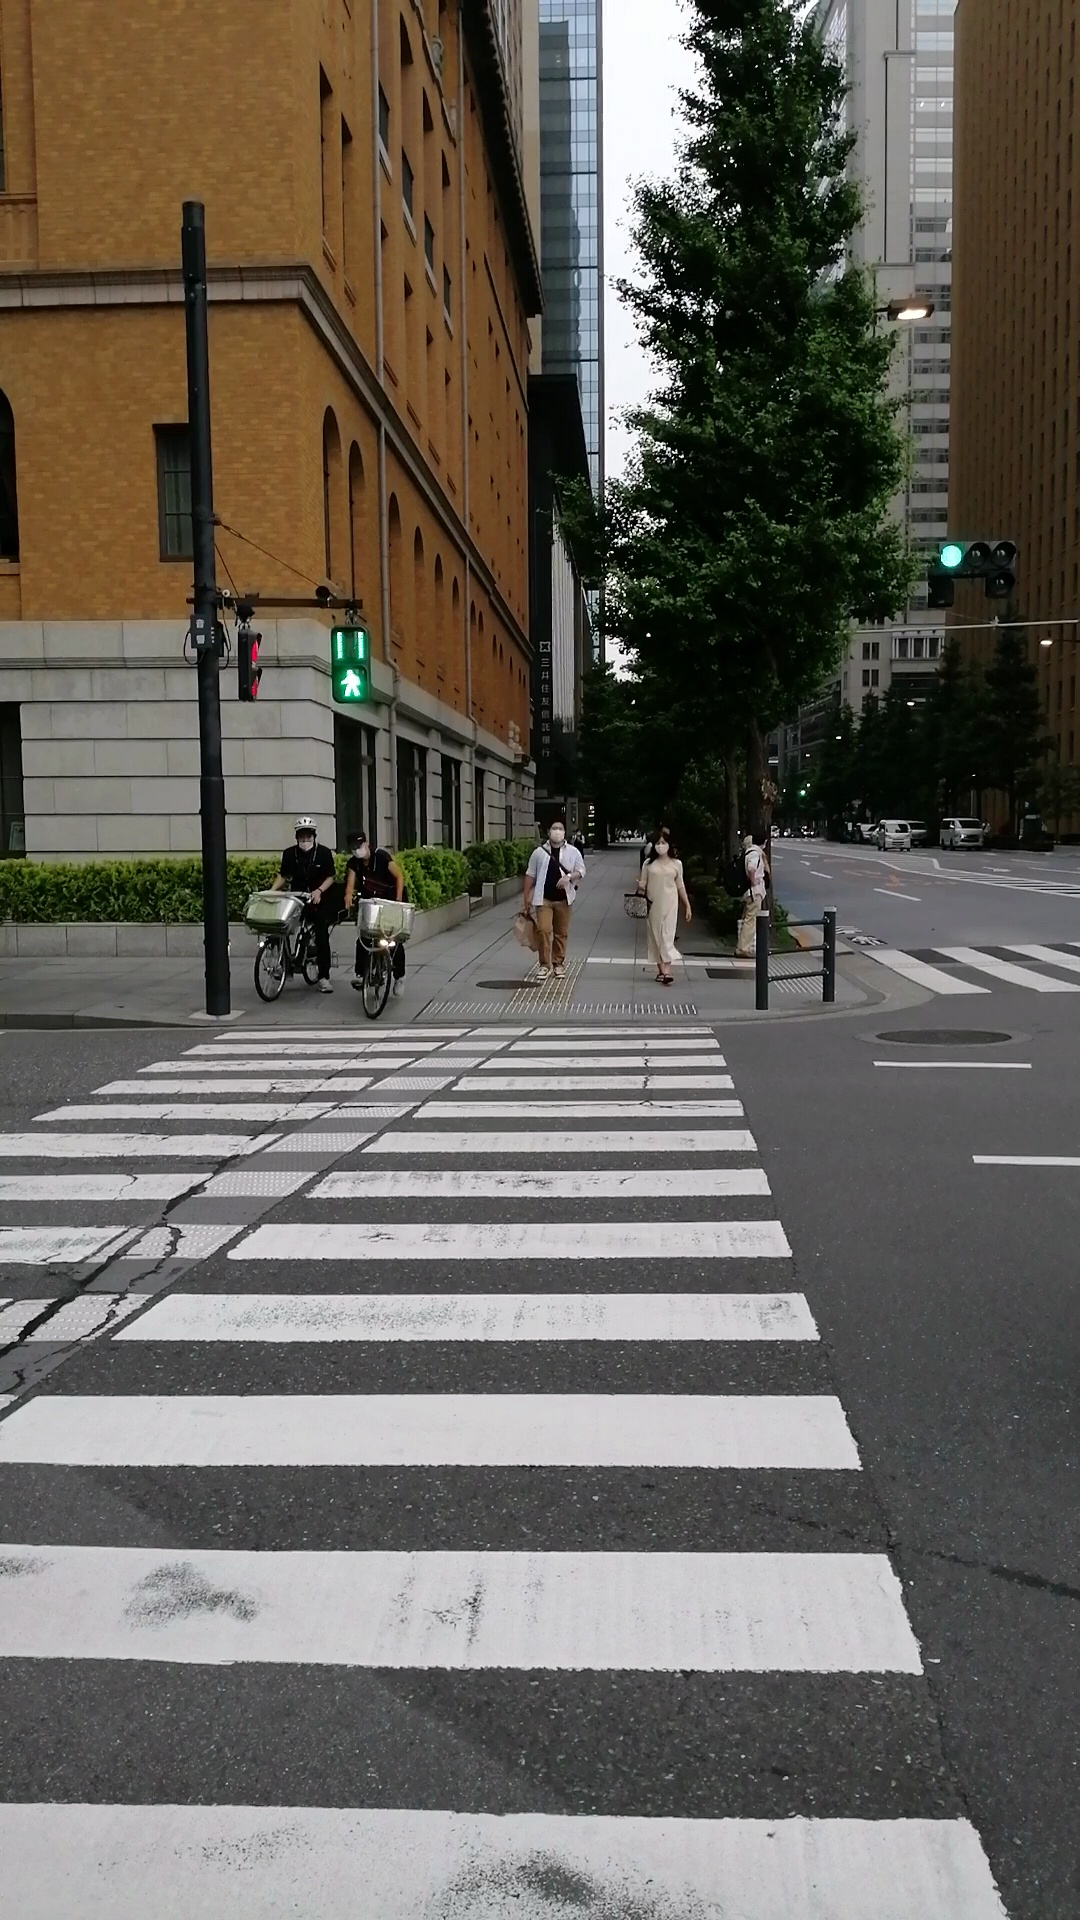green: (327, 622, 375, 705)
